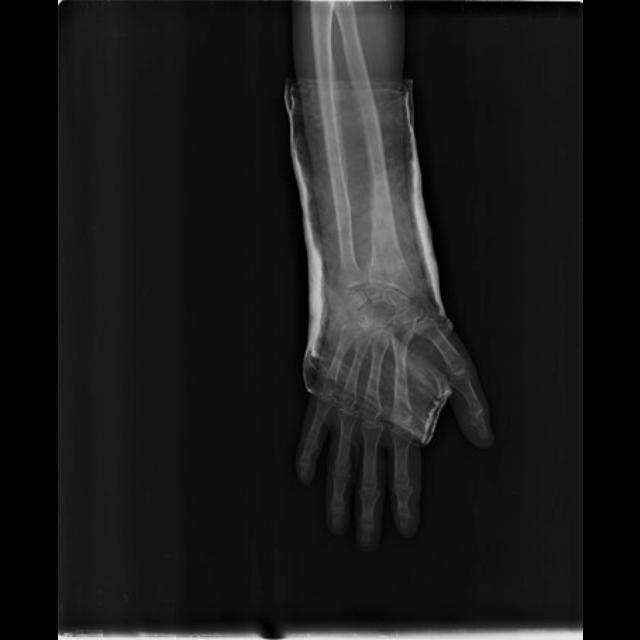Fracture: (363, 250, 417, 280)
